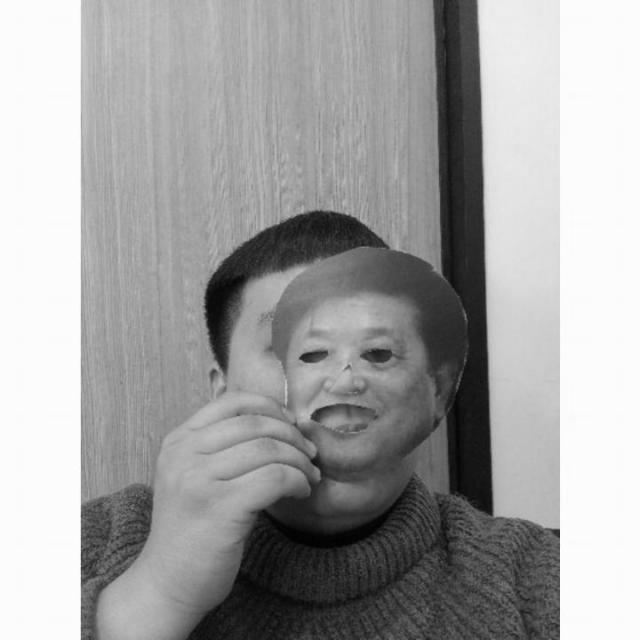fake: (270, 246, 470, 471)
